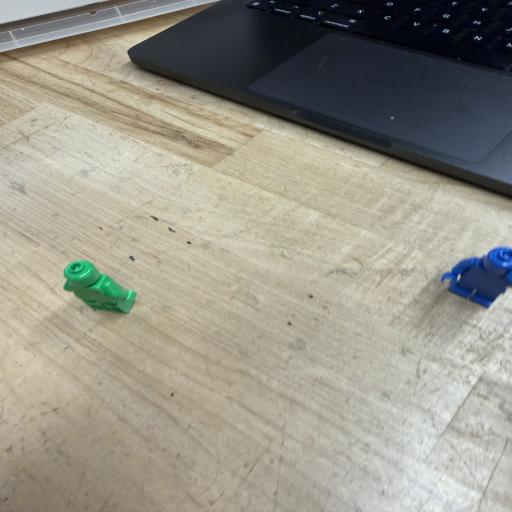blue-minifig: (442, 247, 512, 307)
green-minifig: (63, 260, 136, 314)
